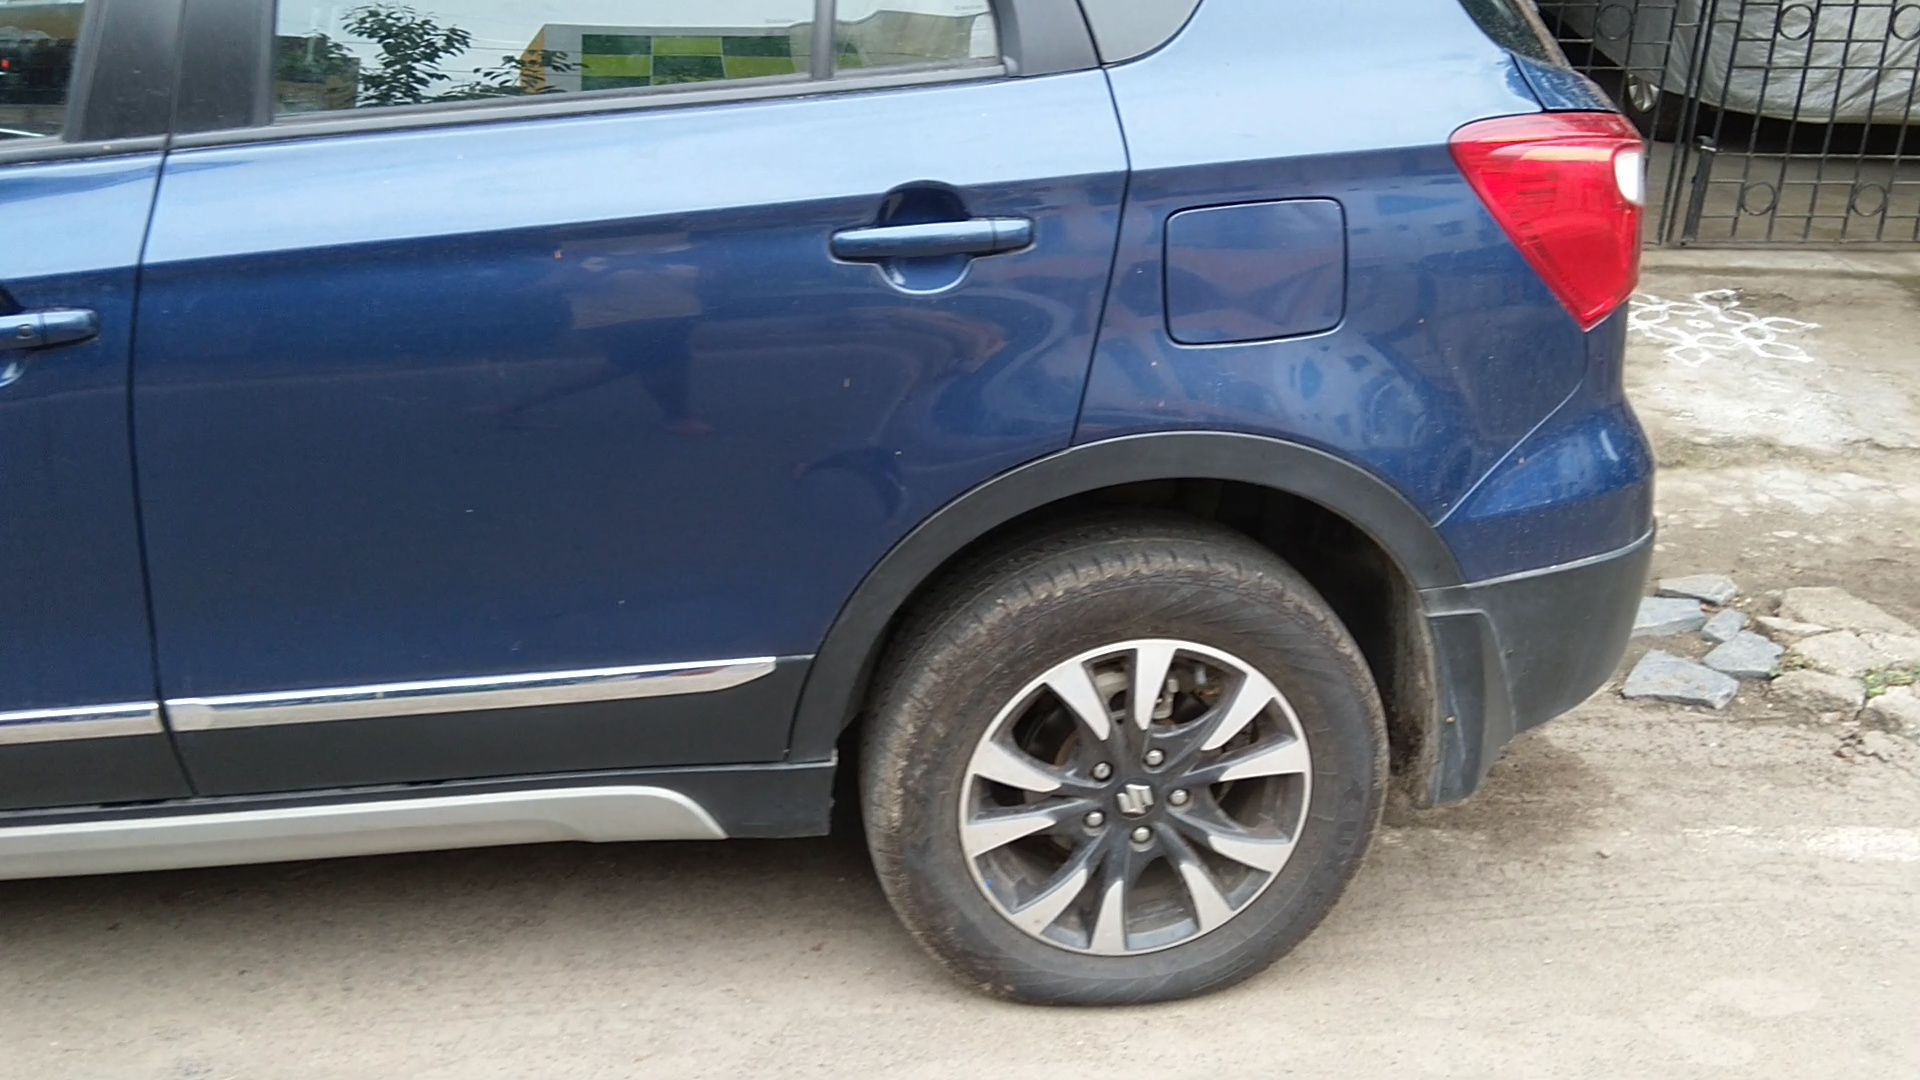alloy_wheel: (887, 560, 1379, 1015)
